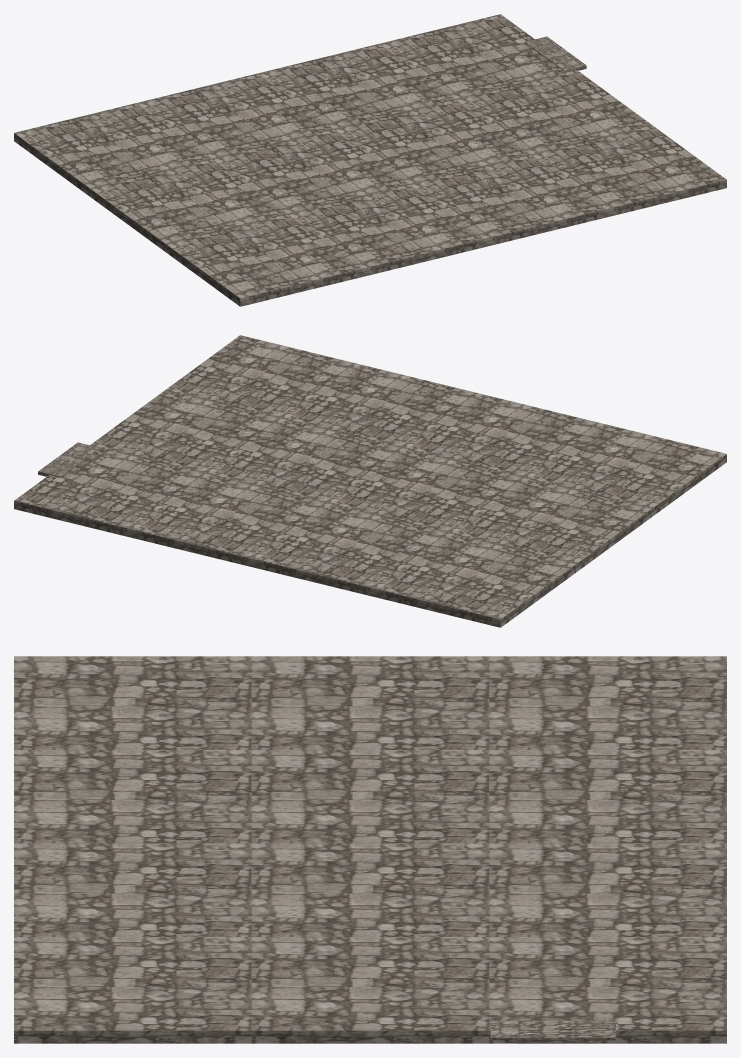
File: BW_Blacksmith01_Floor.fbx
3 renders of one model, top to bottom at view 1: azimuth 30°, elevation 25°; view 2: azimuth 150°, elevation 25°; view 3: azimuth 270°, elevation 25°, orthographic. The views are drawn at different scales.
Parts seen in each view (by area): view 1: BW_Blacksmith01_Floor; view 2: BW_Blacksmith01_Floor; view 3: BW_Blacksmith01_Floor.
Part boxes in pixels (left/top/right/bottom): BW_Blacksmith01_Floor: left=14, top=14, right=726, bottom=306; BW_Blacksmith01_Floor: left=14, top=335, right=726, bottom=627; BW_Blacksmith01_Floor: left=14, top=656, right=726, bottom=1043.
Size of the model in its own units: 9.41 by 0.165 by 7.41.
